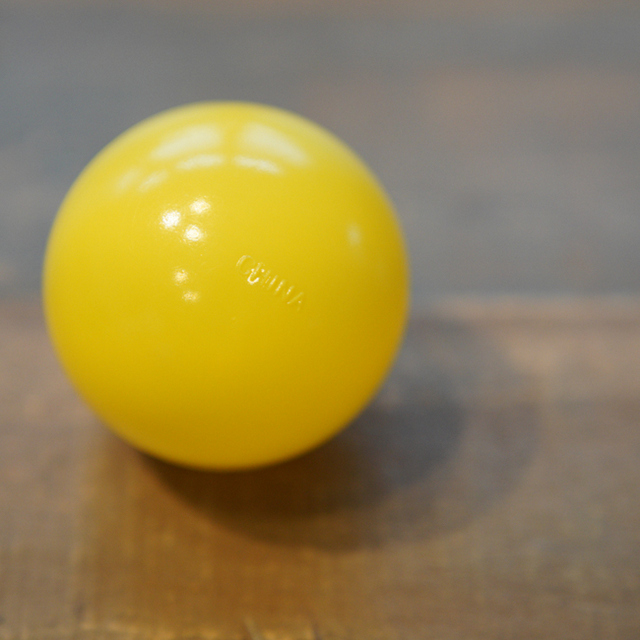Ball: (35, 103, 410, 475)
